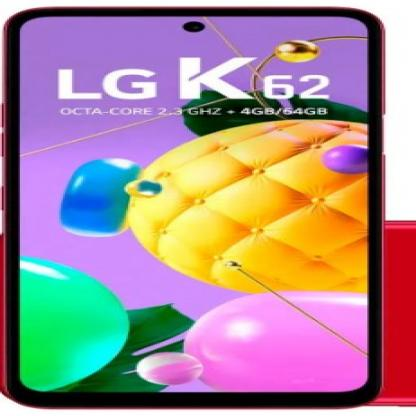SMARTPHONE: (5, 2, 407, 413)
